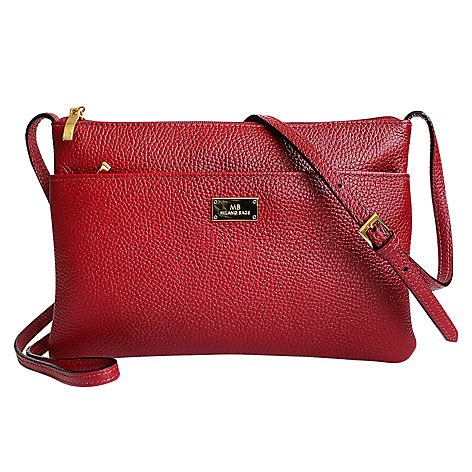cuero: (17, 111, 459, 387)
